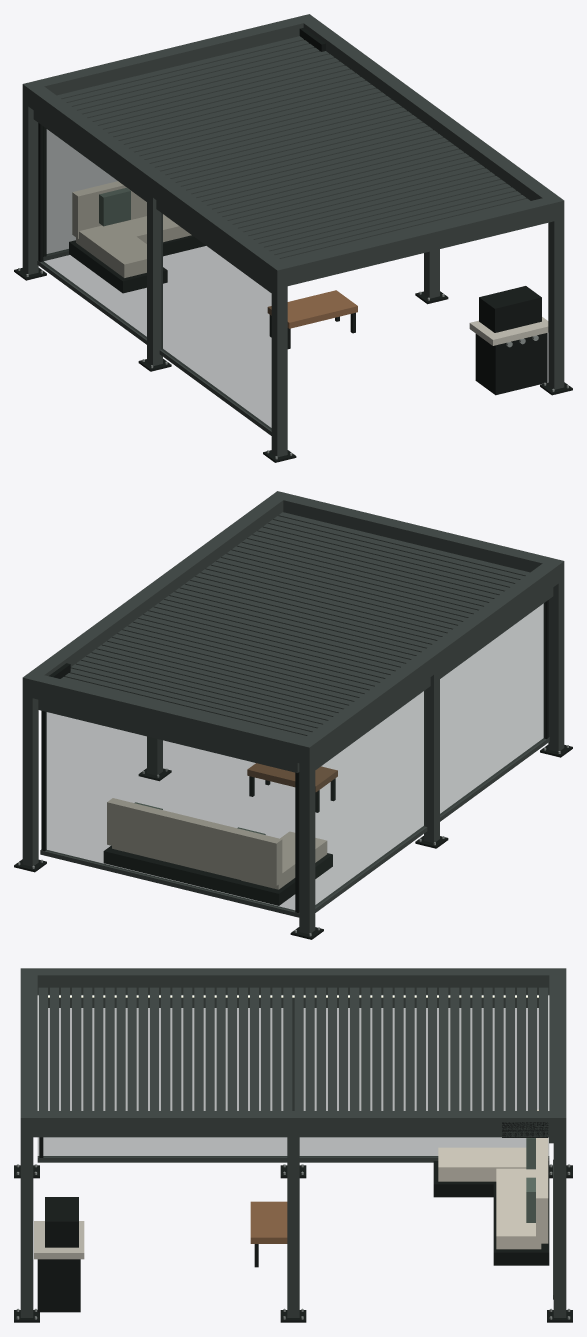
File: coordinatez-axis-13x20-carbon.glb
3 views of the same model, one above another, from view 1: azimuth 30°, elevation 25°; view 2: azimuth 150°, elevation 25°; view 3: azimuth 270°, elevation 25° (orthographic). The views are drawn at different scales.
Parts seen in each view (by area): view 1: Left motorized wall, Structural post (×5), Left beam, Front motor beam, Right beam, Rear drainage beam, Rear motorized wall, BBQ cabinet, Chaise cushion, BBQ hood, Left wall cassette, Left wall bottom rail (+52 smaller); view 2: Rear motorized wall, Left motorized wall, Structural post (×5), Sofa back, Left beam, Rear drainage beam, Right beam, Front motor beam, Sofa base, Rear wall cassette, Left wall cassette, Left wall bottom rail (+49 smaller); view 3: Left motorized wall, Right beam, Left beam, Structural post (×3), Front motor beam, Rear drainage beam, Sofa seat, Left wall bottom rail, Chaise cushion, BBQ cabinet, BBQ hood, Coffee table top (+53 smaller).
Part boxes in pixels (box(x1,y1,x2,y2)): Left motorized wall: box(41, 125, 271, 429); Structural post (×5): box(22, 102, 564, 457); Left beam: box(22, 81, 291, 288); Front motor beam: box(269, 195, 564, 288); Right beam: box(296, 16, 564, 221); Rear drainage beam: box(23, 14, 316, 105); Rear motorized wall: box(47, 130, 116, 254); BBQ cabinet: box(475, 333, 547, 395); Chaise cushion: box(76, 223, 146, 277); BBQ hood: box(479, 286, 541, 332); Left wall cassette: box(33, 110, 271, 292); Left wall bottom rail: box(37, 260, 271, 435); Rear motorized wall: box(41, 711, 294, 911); Left motorized wall: box(315, 602, 545, 906); Structural post (×5): box(22, 579, 564, 934); Sofa back: box(107, 798, 282, 885); Left beam: box(295, 558, 563, 765); Rear drainage beam: box(22, 672, 317, 764); Right beam: box(22, 492, 290, 698); Front motor beam: box(270, 491, 564, 580); Sofa base: box(103, 846, 295, 905); Rear wall cassette: box(38, 699, 299, 772); Left wall cassette: box(315, 587, 553, 769); Left wall bottom rail: box(315, 737, 549, 912); Left motorized wall: box(38, 1008, 548, 1156); Right beam: box(20, 1111, 566, 1137); Left beam: box(21, 968, 565, 994); Structural post (×3): box(20, 1137, 566, 1317); Front motor beam: box(20, 968, 37, 1137); Rear drainage beam: box(549, 968, 566, 1137); Sofa seat: box(496, 1168, 541, 1249); Left wall bottom rail: box(37, 1156, 549, 1162); Chaise cushion: box(438, 1147, 526, 1181); BBQ cabinet: box(37, 1259, 80, 1312); BBQ hood: box(45, 1197, 78, 1247); Coffee table top: box(250, 1201, 287, 1243).
Size of the model in its own units: 4.11 by 2.49 by 6.25.
